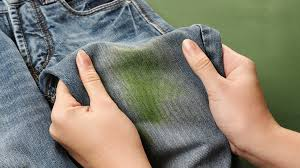earth: (125, 52, 163, 115)
